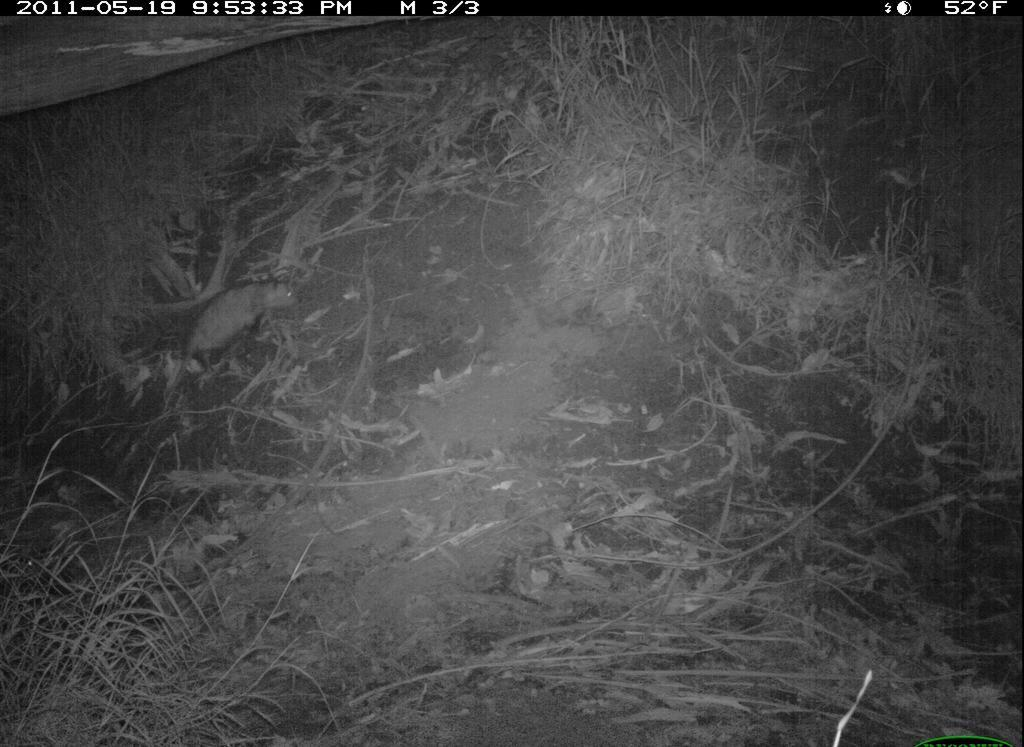opossum: (168, 267, 305, 386)
